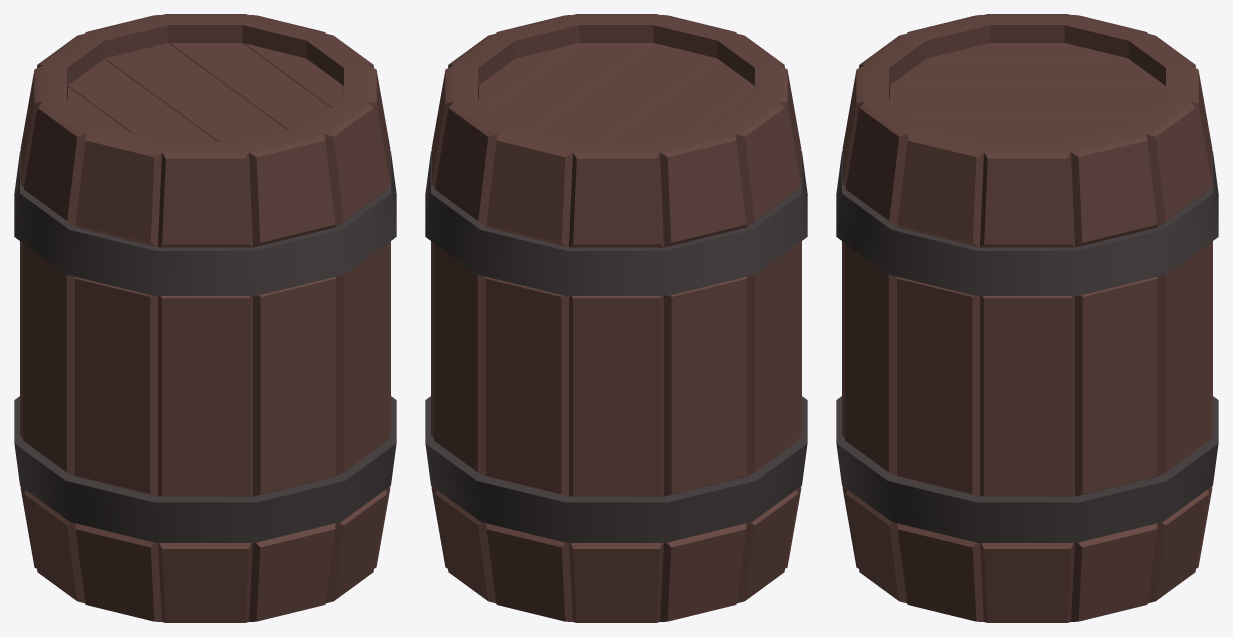
Rendered from Barrel.fbx.
3 renders of one model, left to right at view 1: azimuth 30°, elevation 25°; view 2: azimuth 150°, elevation 25°; view 3: azimuth 270°, elevation 25°, orthographic.
Visible parts, largest first — view 1: Barrel1; view 2: Barrel1; view 3: Barrel1.
Part boxes in pixels (x1,y1,x2,y2): Barrel1: (14, 14, 396, 622); Barrel1: (425, 14, 807, 622); Barrel1: (836, 14, 1218, 622).
Bounding box in the file's own units: 0.9562 × 1.3 × 0.9562.
